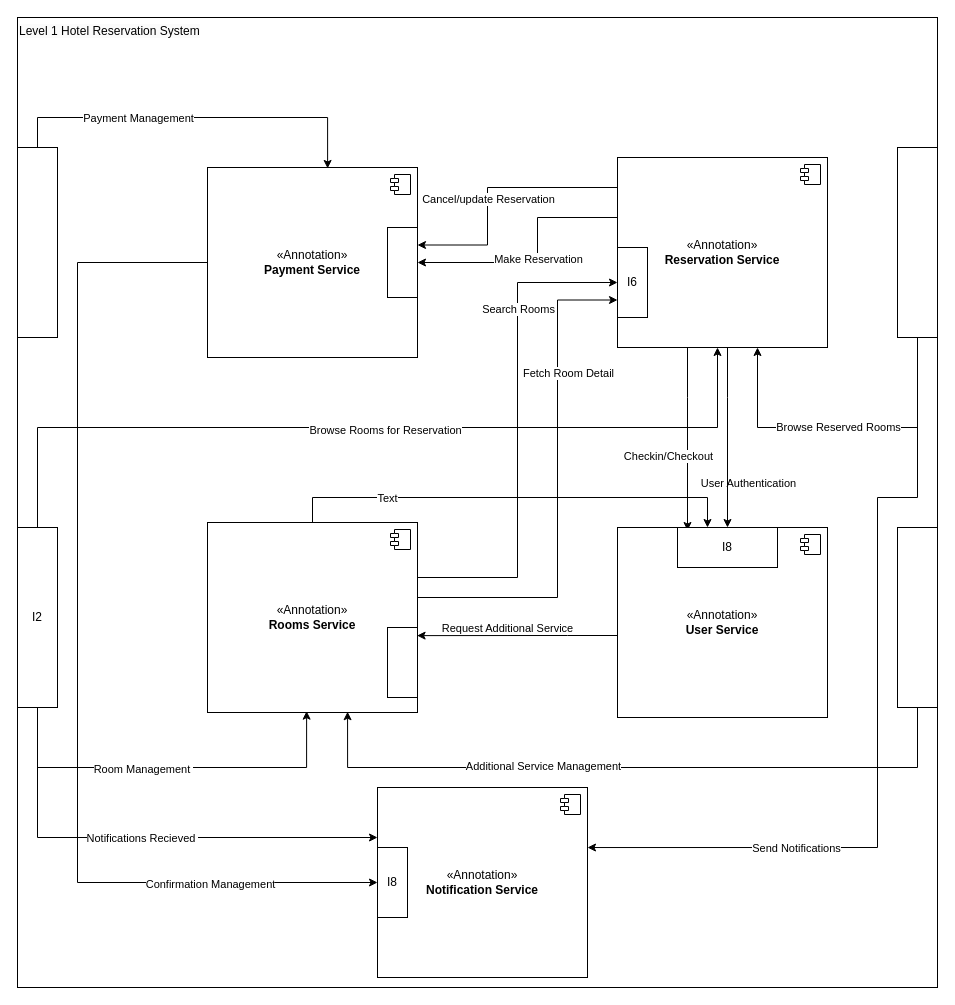
The diagram is 955 pixels wide and 1005 high, and some of its shapes have lost their labels. The shapes that lost their labels are listed below. From the top down, each one's centre as x and y in pixels, then its label:
At (x=37, y=242): "I1".
At (x=402, y=262): "I5".
At (x=917, y=242): "I4".
At (x=917, y=617): "I3".
At (x=402, y=662): "I7".
